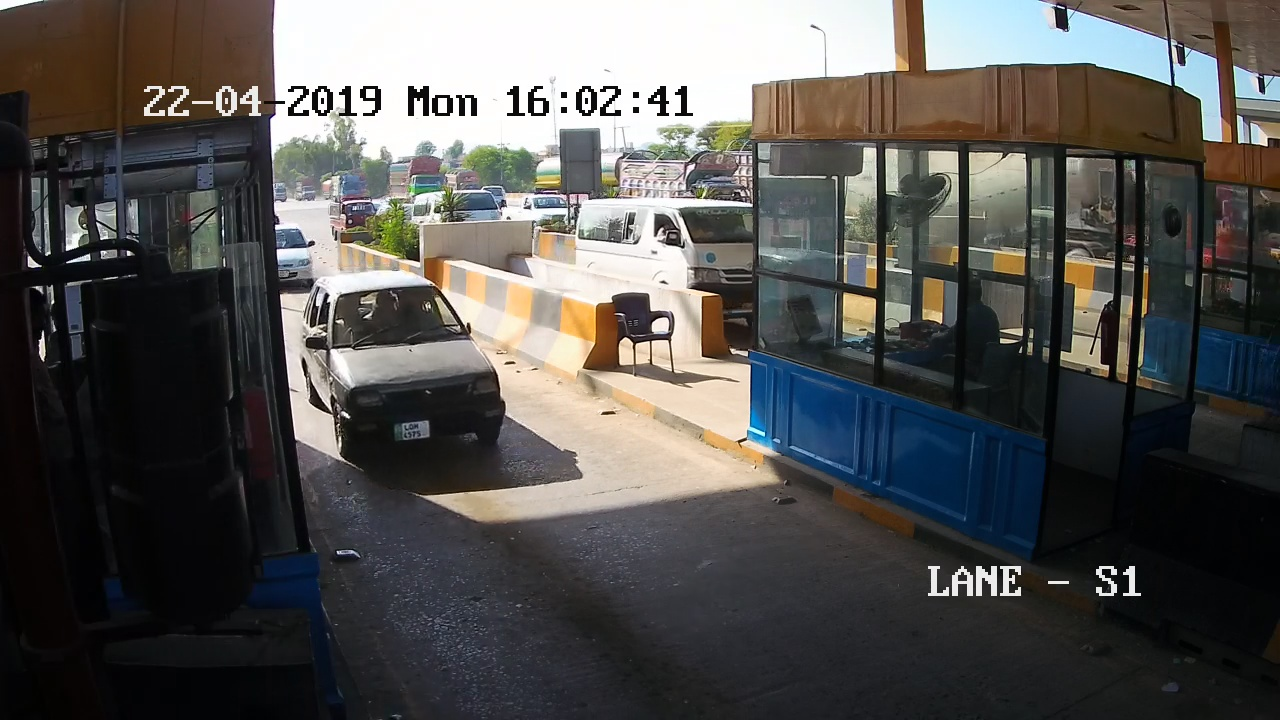car: (293, 267, 506, 457)
